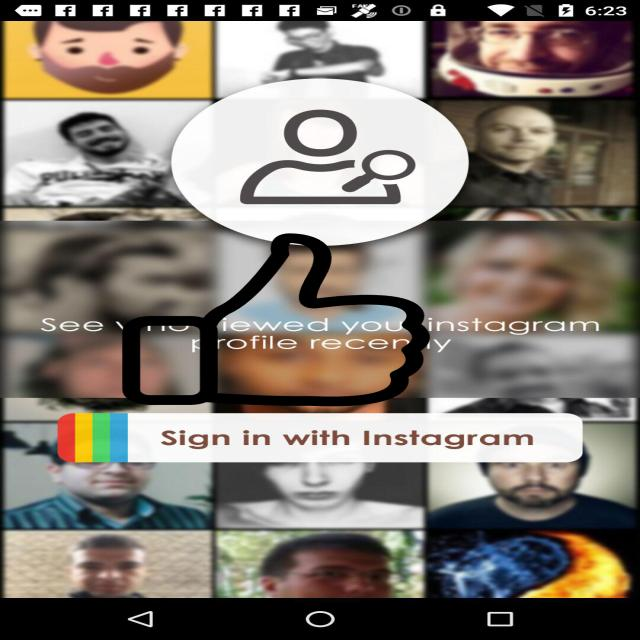privacy zuckering: (118, 234, 434, 406)
